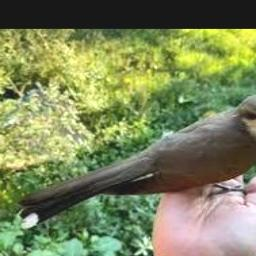Cuckoo: (19, 93, 256, 229)
